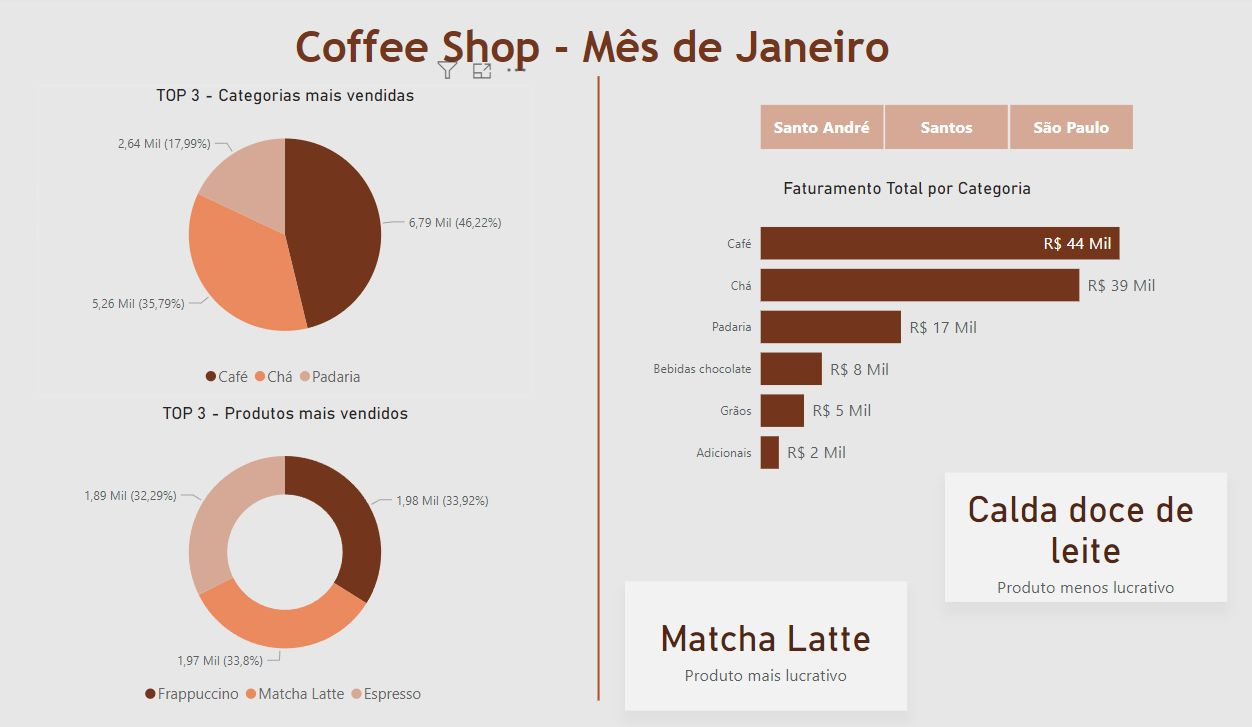

Layout of this report page (visuals, bound fields, positions):
{"tool":"powerbi","page":{"name":"Produtos","canvas":[1280,720],"ordinal":1},"visuals":[{"type":"textbox","box":[337.6,20.6,603.8,79.6],"z":0},{"type":"shape","box":[590.1,79.6,97.4,610.6],"z":1000},{"type":"actionButton","box":[0,0,100,40],"z":5000},{"type":"slicer","fields":{"Values":["Transacoes.Cidade"]},"box":[771.2,100.2,414.4,57.6],"z":6000},{"type":"barChart","fields":{"Category":["Tabela de Produtos.Categoria"],"Y":["Transacoes.Faturamento Total"]},"box":[680.6,178.4,520.1,307.4],"z":7000},{"type":"card","fields":{"Values":["Min(Tabela de Produtos.Detalhes)"]},"box":[665.5,573.6,275.8,126.2],"z":8000},{"type":"pieChart","title":"TOP 3 - Categorias mais vendidas","fields":{"Category":["Tabela de Produtos.Categoria"],"Y":["CountNonNull(Transacoes.data_transacao)"]},"box":[90.3,88.4,484.4,304.6],"z":8001},{"type":"donutChart","title":"TOP 3 - Produtos mais vendidos","fields":{"Y":["CountNonNull(Transacoes.data_transacao)"],"Category":["Tabela de Produtos.Detalhes"]},"box":[90.6,397.9,484.4,304.6],"z":8002},{"type":"card","fields":{"Values":["Min(Tabela de Produtos.Detalhes)"]},"box":[978.4,466.6,275.8,126.2],"z":8003}]}

Visuals, with their boxes on the page's 1280x720 design canvas (x1, y1, x2, y2). These are canvas units, not pixel positions in the 1252x727 screenshot, which may show the page scaled, cropped or inside an application window:
textbox: 338, 21, 941, 100
shape: 590, 80, 688, 690
actionButton: 0, 0, 100, 40
slicer - Transacoes.Cidade: 771, 100, 1186, 158
barChart - Tabela de Produtos.Categoria x Transacoes.Faturamento Total: 681, 178, 1201, 486
card - Min(Tabela de Produtos.Detalhes): 666, 574, 941, 700
"TOP 3 - Categorias mais vendidas" pieChart: 90, 88, 575, 393
"TOP 3 - Produtos mais vendidos" donutChart: 91, 398, 575, 702
card - Min(Tabela de Produtos.Detalhes): 978, 467, 1254, 593
